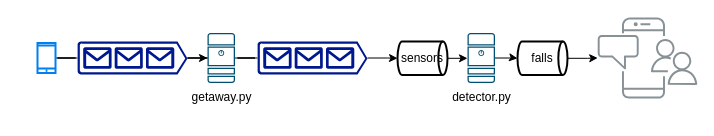
Image size: 714x136. Some labels were removed from this diagram. Here are the shapes that lost their labels. From the top down, the centre of each, then its label:
At [46,58]: "webapp.py".
At [647,57]: "notification".
